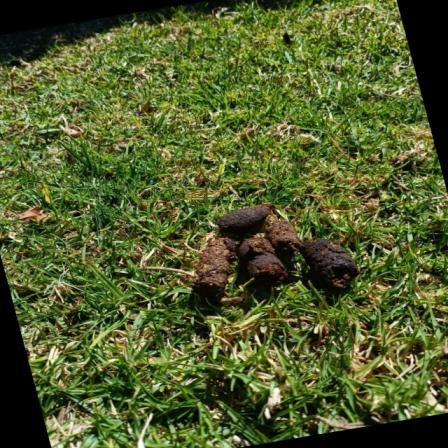dog-poop: (187, 198, 368, 307)
